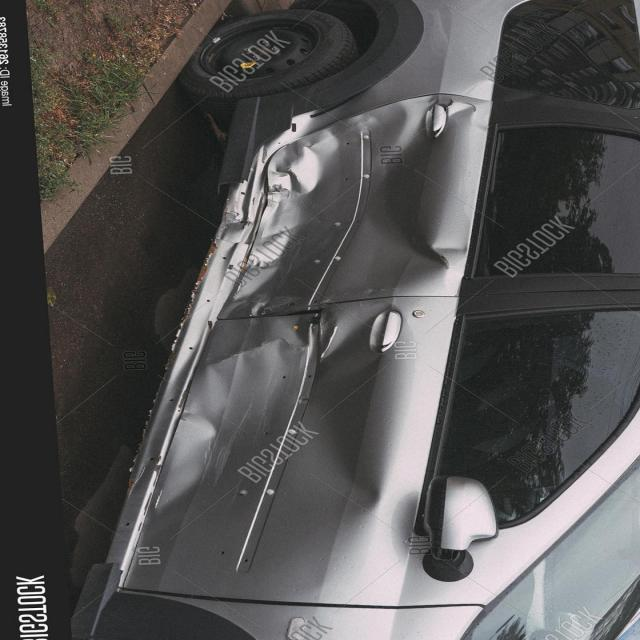dent: (88, 90, 516, 552)
